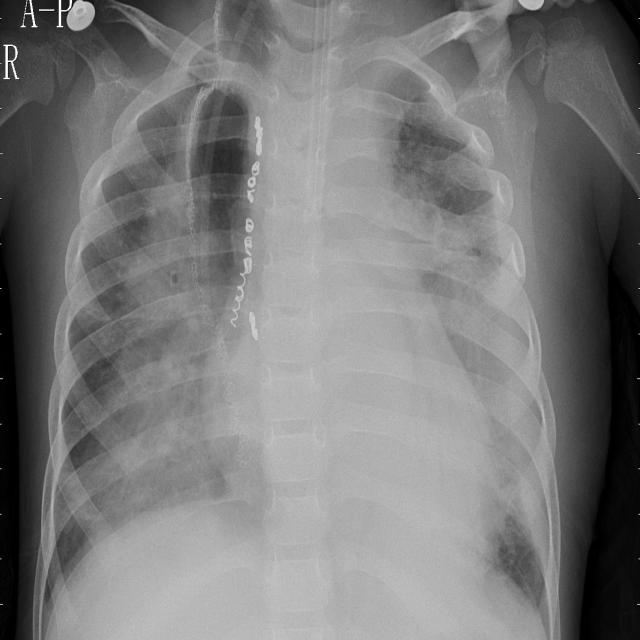high-pneumonia: (93, 87, 235, 540), (405, 176, 533, 406), (369, 51, 480, 243), (484, 397, 565, 564)
